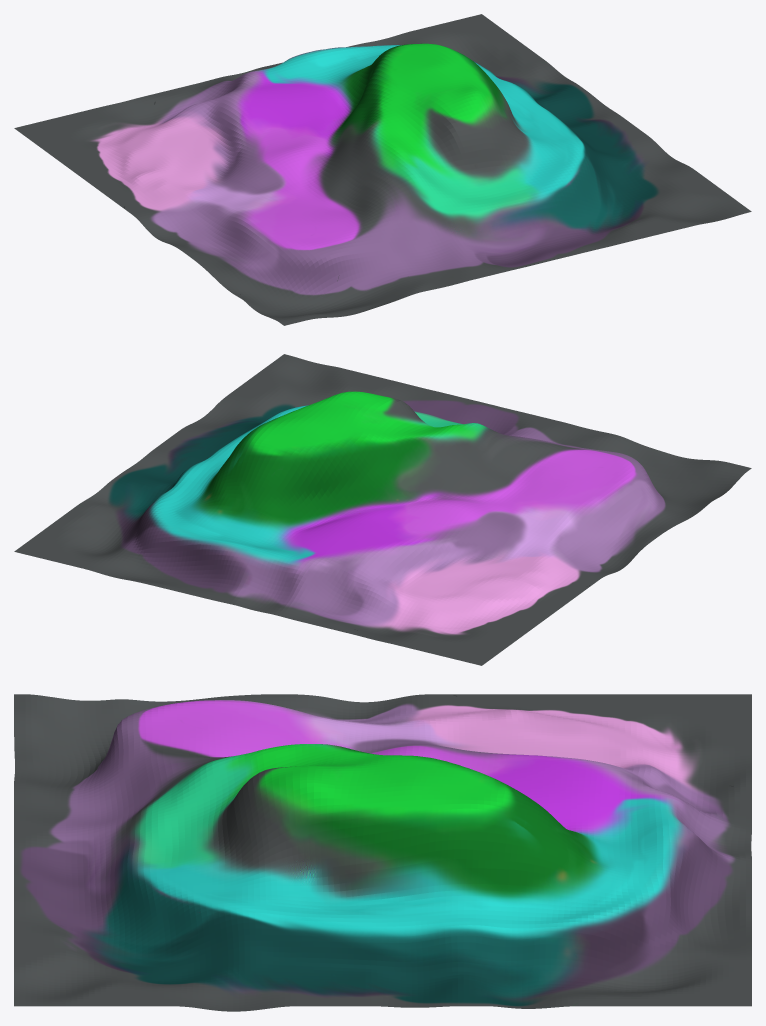
Rendered from blender base_map.glb.
3 renders of one model, top to bottom at view 1: azimuth 30°, elevation 25°; view 2: azimuth 150°, elevation 25°; view 3: azimuth 270°, elevation 25°, orthographic. The views are drawn at different scales.
Parts seen in each view (by area): view 1: Plane; view 2: Plane; view 3: Plane.
Part boxes in pixels (<box>): Plane: <box>14,14,751,325</box>; Plane: <box>14,354,751,665</box>; Plane: <box>14,694,751,1011</box>.
Bounding box in the file's own units: 2 × 0.4059 × 2.
1 material, 1 textured.
